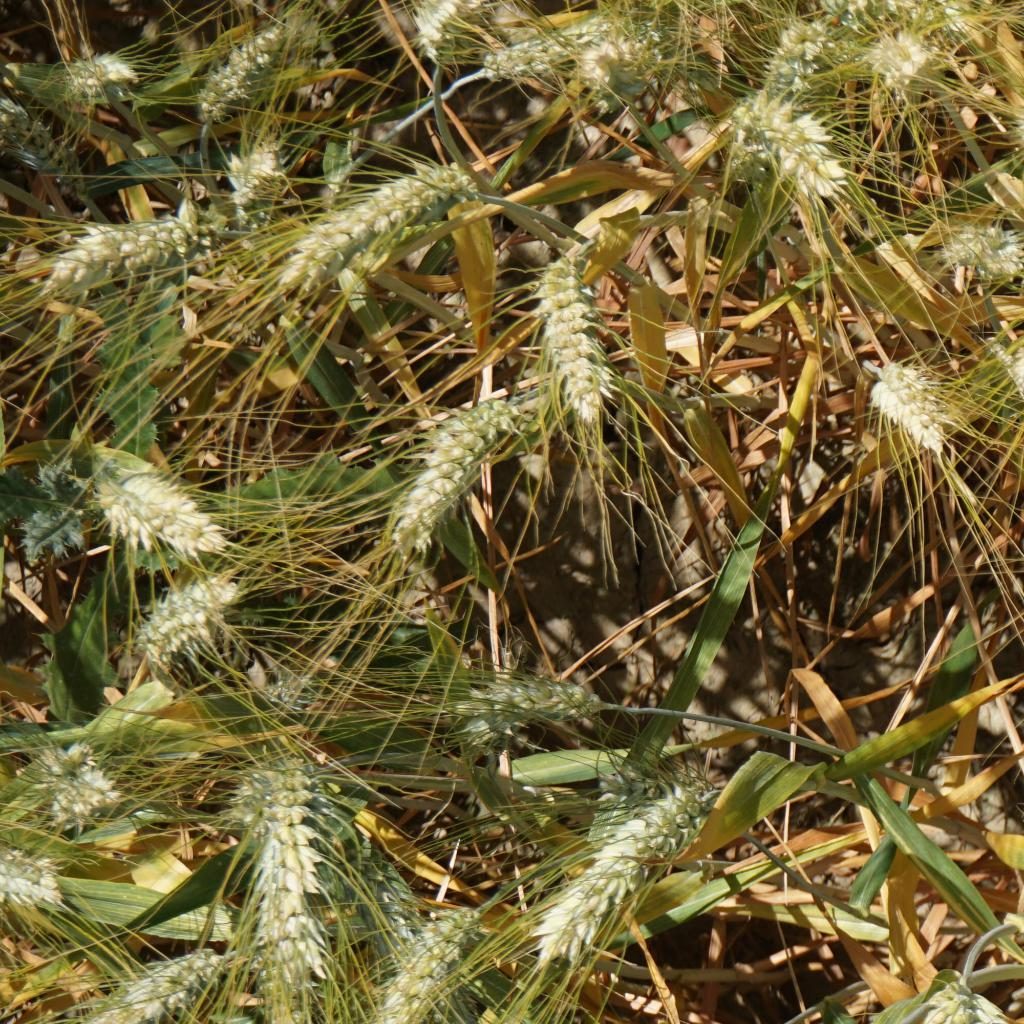0-0: (288, 156, 453, 297), (547, 800, 696, 955), (246, 766, 324, 1024), (380, 396, 515, 537), (334, 901, 466, 1024), (521, 259, 612, 405), (49, 211, 197, 283), (98, 472, 223, 556), (460, 675, 612, 736), (864, 341, 952, 446), (29, 740, 120, 833), (124, 590, 234, 665), (176, 29, 277, 106), (568, 25, 658, 98), (743, 5, 819, 89), (943, 210, 1024, 281), (859, 21, 941, 86), (762, 122, 836, 192), (476, 16, 577, 67), (223, 135, 280, 221), (408, 0, 484, 55), (51, 42, 122, 99), (928, 982, 1024, 1024), (733, 88, 784, 156), (0, 848, 60, 901), (1008, 95, 1024, 157)
